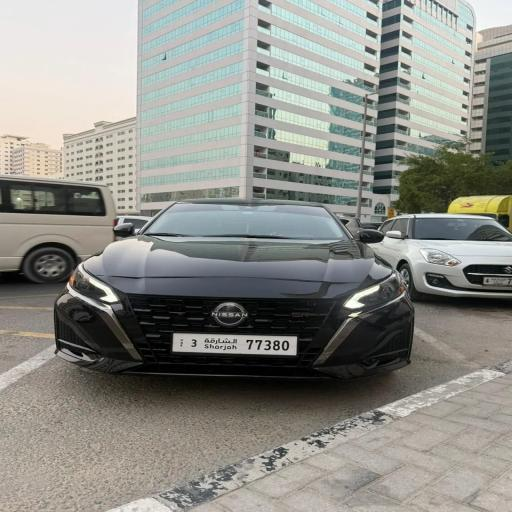license-plates: (172, 333, 297, 355), (483, 277, 511, 285)
